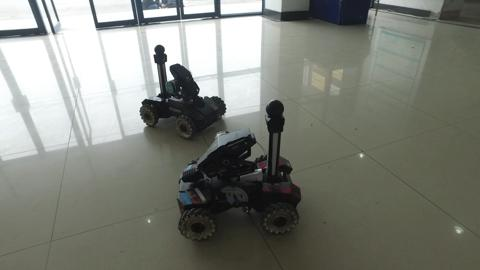chariot: (171, 99, 314, 251), (139, 42, 229, 145)
